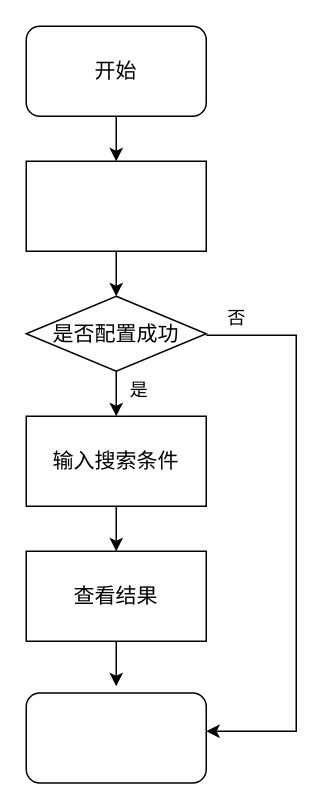
Image size: 335x810. Some labels were removed from this diagram. The box of each missing label's shape, as (x1, y1, x2, y2) in pixels:
结束: (25, 692, 206, 783)
配置Kibana: (25, 160, 206, 251)
